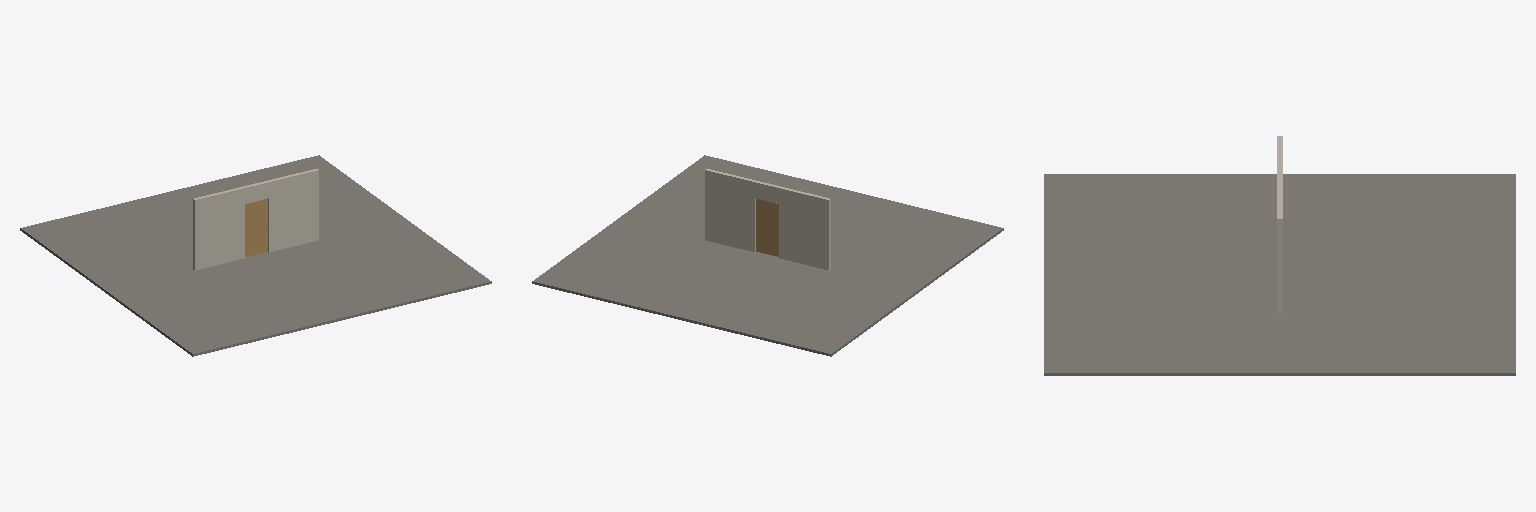
The robot description file, URDF, robot "db0100_bifold_simple":
<?xml version="1.0" ?>
<robot xmlns:doorbench="https://github.com/adamraudonis/DoorBench/schema/urdf-ext" name="db0100_bifold_simple">
  <link name="world_env">
    <visual name="floor_vis">
      <origin xyz="0 0 -0.05" rpy="0 0 0"/>
      <geometry>
        <box size="12 12 0.1"/>
      </geometry>
      <material name="mat_floor"/>
    </visual>
    <collision name="floor_col">
      <origin xyz="0 0 -0.05" rpy="0 0 0"/>
      <geometry>
        <box size="12 12 0.1"/>
      </geometry>
    </collision>
    <visual name="wall_left_vis">
      <origin xyz="-1.48225 0 1.35" rpy="0 0 0"/>
      <geometry>
        <box size="2.0355 0.145 2.7"/>
      </geometry>
      <material name="mat_wall"/>
    </visual>
    <collision name="wall_left_col">
      <origin xyz="-1.48225 0 1.35" rpy="0 0 0"/>
      <geometry>
        <box size="2.0355 0.145 2.7"/>
      </geometry>
    </collision>
    <visual name="wall_right_vis">
      <origin xyz="1.48225 0 1.35" rpy="0 0 0"/>
      <geometry>
        <box size="2.0355 0.145 2.7"/>
      </geometry>
      <material name="mat_wall"/>
    </visual>
    <collision name="wall_right_col">
      <origin xyz="1.48225 0 1.35" rpy="0 0 0"/>
      <geometry>
        <box size="2.0355 0.145 2.7"/>
      </geometry>
    </collision>
    <visual name="wall_header_vis">
      <origin xyz="0 0 2.3935" rpy="0 0 0"/>
      <geometry>
        <box size="0.929 0.145 0.613"/>
      </geometry>
      <material name="mat_wall"/>
    </visual>
    <collision name="wall_header_col">
      <origin xyz="0 0 2.3935" rpy="0 0 0"/>
      <geometry>
        <box size="0.929 0.145 0.613"/>
      </geometry>
    </collision>
    <visual name="jamb_hinge_vis">
      <origin xyz="-0.474 0 1.0435" rpy="0 0 0"/>
      <geometry>
        <box size="0.019 0.145 2.087"/>
      </geometry>
      <material name="mat_frame"/>
    </visual>
    <collision name="jamb_hinge_col">
      <origin xyz="-0.474 0 1.0435" rpy="0 0 0"/>
      <geometry>
        <box size="0.019 0.145 2.087"/>
      </geometry>
    </collision>
    <visual name="jamb_strike_vis">
      <origin xyz="0.474 0 1.0435" rpy="0 0 0"/>
      <geometry>
        <box size="0.019 0.145 2.087"/>
      </geometry>
      <material name="mat_frame"/>
    </visual>
    <collision name="jamb_strike_col">
      <origin xyz="0.474 0 1.0435" rpy="0 0 0"/>
      <geometry>
        <box size="0.019 0.145 2.087"/>
      </geometry>
    </collision>
    <visual name="stud_strike_vis">
      <origin xyz="0.4985 0 1.0435" rpy="0 0 0"/>
      <geometry>
        <box size="0.03 0.145 2.087"/>
      </geometry>
      <material name="mat_wall"/>
    </visual>
    <collision name="stud_strike_col">
      <origin xyz="0.4985 0 1.0435" rpy="0 0 0"/>
      <geometry>
        <box size="0.03 0.145 2.087"/>
      </geometry>
    </collision>
    <visual name="jamb_head_vis">
      <origin xyz="0.015 0 2.0965" rpy="0 0 0"/>
      <geometry>
        <box size="0.997 0.145 0.019"/>
      </geometry>
      <material name="mat_frame"/>
    </visual>
    <collision name="jamb_head_col">
      <origin xyz="0.015 0 2.0965" rpy="0 0 0"/>
      <geometry>
        <box size="0.997 0.145 0.019"/>
      </geometry>
    </collision>
    <visual name="head_stud_vis">
      <origin xyz="0.015 0 2.121" rpy="0 0 0"/>
      <geometry>
        <box size="0.997 0.145 0.03"/>
      </geometry>
      <material name="mat_wall"/>
    </visual>
    <collision name="head_stud_col">
      <origin xyz="0.015 0 2.121" rpy="0 0 0"/>
      <geometry>
        <box size="0.997 0.145 0.03"/>
      </geometry>
    </collision>
    <visual name="fold_track_vis">
      <origin xyz="0 0 2.072" rpy="0 0 0"/>
      <geometry>
        <box size="0.929 0.04 0.03"/>
      </geometry>
      <material name="mat_track"/>
    </visual>
  </link>
  <link name="panel_0_0">
    <inertial>
      <origin xyz="0.196354 0 1.038585" rpy="0 0 0"/>
      <mass value="13.02618"/>
      <inertia ixx="4.506188045" ixy="0" ixz="0.00661164" iyy="4.721800276" iyz="0" izz="0.21826604"/>
    </inertial>
    <visual name="panel_0_0_slab_vis">
      <origin xyz="0.196855 0 1.036" rpy="0 0 0"/>
      <geometry>
        <box size="0.446291 0.035 2.032"/>
      </geometry>
      <material name="mat_panel_0_0"/>
    </visual>
    <collision name="panel_0_0_slab_col">
      <origin xyz="0.196855 0 1.036" rpy="0 0 0"/>
      <geometry>
        <box size="0.446291 0.035 2.032"/>
      </geometry>
    </collision>
    <visual name="panel_0_0_pivot_pin_vis">
      <origin xyz="0 0 2.0525" rpy="0 0 0"/>
      <geometry>
        <cylinder radius="0.008" length="0.021"/>
      </geometry>
      <material name="mat_hinge"/>
    </visual>
  </link>
  <link name="panel_0_1">
    <inertial>
      <origin xyz="0.127923 -0.026171 1.025117" rpy="0 0 0"/>
      <mass value="13.655292"/>
      <inertia ixx="3.254917127" ixy="0.098463559" ixz="0.041323717" iyy="3.71156288" iyz="-0.008785261" izz="0.50166478"/>
    </inertial>
    <visual name="panel_0_1_slab_vis">
      <origin xyz="0.234 -0.0175 1.036" rpy="0 0 0"/>
      <geometry>
        <box size="0.464 0.035 2.032"/>
      </geometry>
      <material name="mat_panel_0_1"/>
    </visual>
    <collision name="panel_0_1_slab_col">
      <origin xyz="0.234 -0.0175 1.036" rpy="0 0 0"/>
      <geometry>
        <box size="0.464 0.035 2.032"/>
      </geometry>
    </collision>
    <visual name="panel_0_1_knuckle_vis">
      <origin xyz="0 0 1.036" rpy="0 0 0"/>
      <geometry>
        <cylinder radius="0.0045" length="2.012"/>
      </geometry>
      <material name="mat_hinge"/>
    </visual>
    <visual name="panel_0_1_pull_n_vis">
      <origin xyz="0.406 -0.035 1" rpy="1.570796 0 0"/>
      <geometry>
        <mesh filename="../../hardware/pull_1e5d69a91a.obj"/>
      </geometry>
      <material name="mat_op_stainless"/>
    </visual>
    <collision name="panel_0_1_pull_col_n_col">
      <origin xyz="0.406 -0.095 1" rpy="0 0 0"/>
      <geometry>
        <cylinder radius="0.0095" length="0.16"/>
      </geometry>
    </collision>
  </link>
  <joint name="panel_0_0_hinge" type="revolute">
    <origin xyz="-0.4295 0 0" rpy="0 0 0"/>
    <parent link="world_env"/>
    <child link="panel_0_0"/>
    <axis xyz="0 0 -1"/>
    <limit lower="0" upper="1.48353" effort="2000" velocity="10"/>
    <dynamics damping="0.866815" friction="3.161374"/>
  </joint>
  <joint name="panel_0_1_hinge" type="revolute">
    <origin xyz="0.422 0.0175 0" rpy="0 0 0"/>
    <parent link="panel_0_0"/>
    <child link="panel_0_1"/>
    <axis xyz="0 0 -1"/>
    <limit lower="-3.141593" upper="0" effort="2000" velocity="10"/>
    <dynamics damping="0.2" friction="0.1"/>
    <mimic joint="panel_0_0_hinge" multiplier="-2" offset="0"/>
  </joint>
  <material name="mat_floor">
    <color rgba="0.55 0.53 0.5 1"/>
  </material>
  <material name="mat_frame">
    <color rgba="0.82 0.7 0.5 1"/>
  </material>
  <material name="mat_hinge">
    <color rgba="0.65 0.66 0.68 1"/>
  </material>
  <material name="mat_op_stainless">
    <color rgba="0.75 0.76 0.77 1"/>
  </material>
  <material name="mat_panel_0_0">
    <color rgba="0.725 0.588 0.398 1"/>
  </material>
  <material name="mat_panel_0_1">
    <color rgba="0.725 0.588 0.398 1"/>
  </material>
  <material name="mat_track">
    <color rgba="0.8 0.81 0.83 1"/>
  </material>
  <material name="mat_wall">
    <color rgba="0.78 0.76 0.7 1"/>
  </material>
</robot>

--- Render facts (derived) ---
The picture shows the robot from 3 angles, left to right: view 1: azimuth 30°, elevation 25°; view 2: azimuth 150°, elevation 25°; view 3: azimuth 270°, elevation 25°; orthographic projection.
Model db0100_bifold_simple with 3 links and 2 joints (2 revolute), rooted at world_env, posed every joint at zero.
Visible links, largest first — view 1: world_env, panel_0_1, panel_0_0; view 2: world_env, panel_0_1, panel_0_0; view 3: world_env.
Link boxes in pixels (x1,y1,x2,y2): world_env: [20, 155, 491, 356]; panel_0_1: [256, 199, 267, 253]; panel_0_0: [245, 202, 255, 256]; world_env: [532, 155, 1003, 356]; panel_0_1: [756, 199, 767, 253]; panel_0_0: [768, 202, 778, 256]; world_env: [1044, 136, 1515, 375].
Size in the robot's own frame: 12 by 12 by 2.8 metres.
Meshes: 1 distinct files referenced, 1 mesh visuals loaded (1 OBJ).
